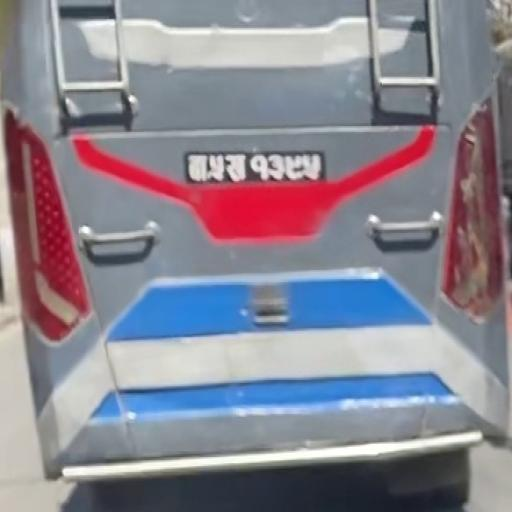license_plate: (183, 148, 332, 185)
